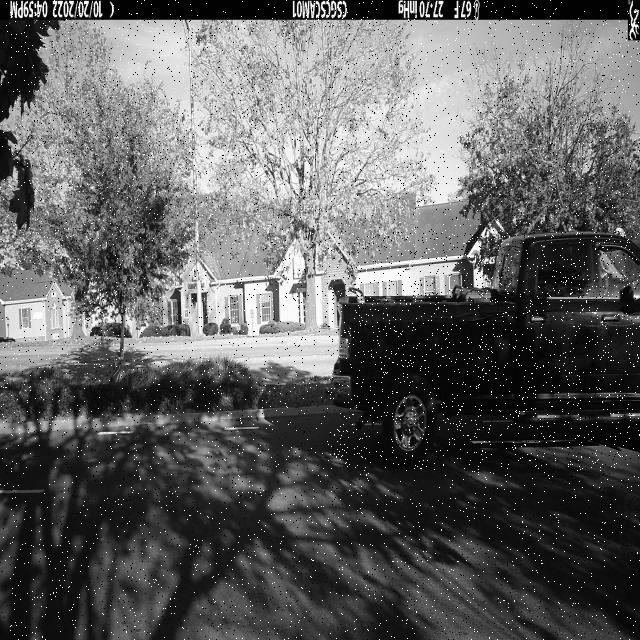Pickup: (329, 232, 640, 469)
